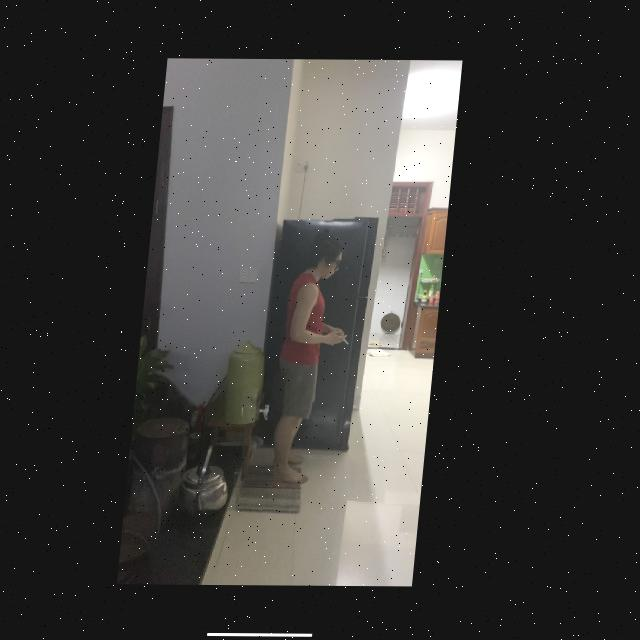cigarette: (349, 338, 356, 344)
